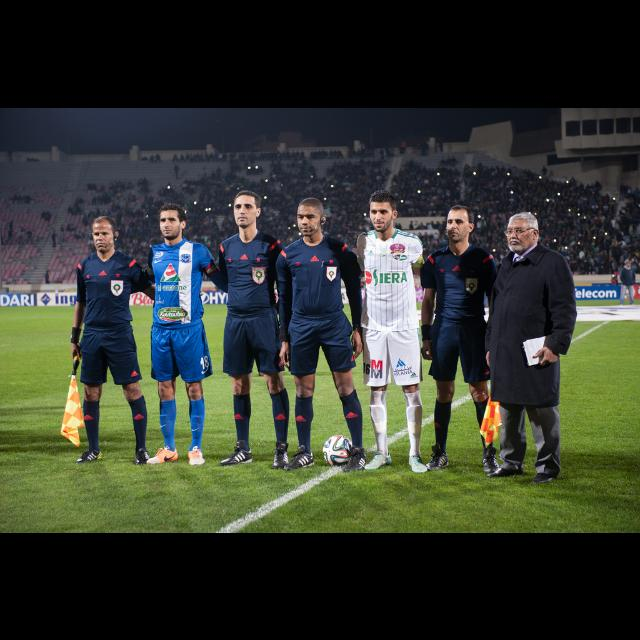Football: (320, 431, 354, 463)
